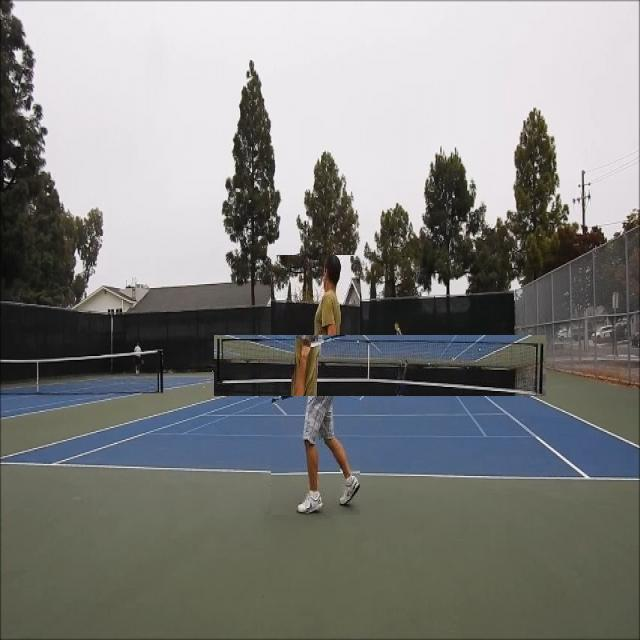court: (0, 370, 640, 480)
net: (214, 335, 546, 396)
player: (271, 255, 360, 515)
